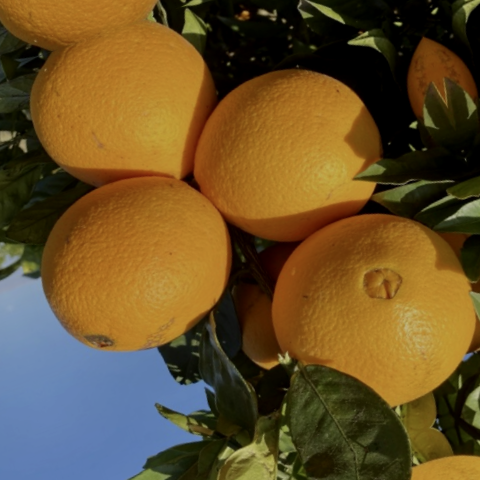orange: (225, 183, 480, 451), (0, 0, 271, 239), (166, 43, 424, 281), (0, 155, 255, 380)
